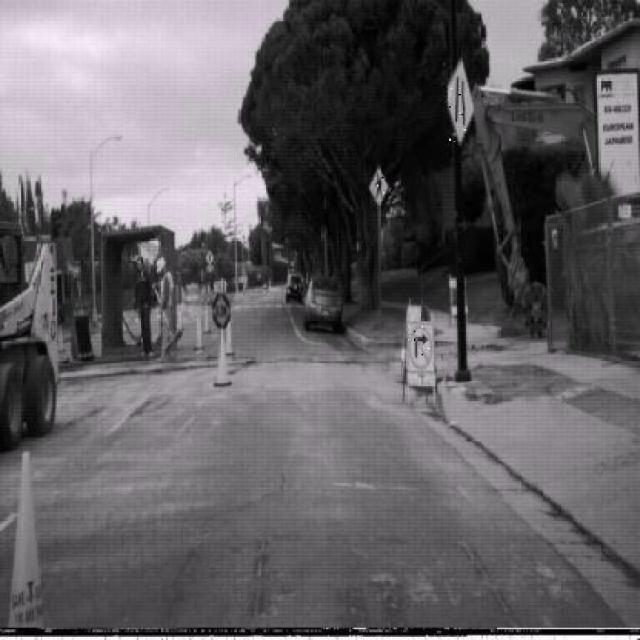laneEnds: (448, 56, 475, 144)
noRightTurn: (406, 322, 434, 371)
pedestrianCrossing: (368, 165, 389, 208)
